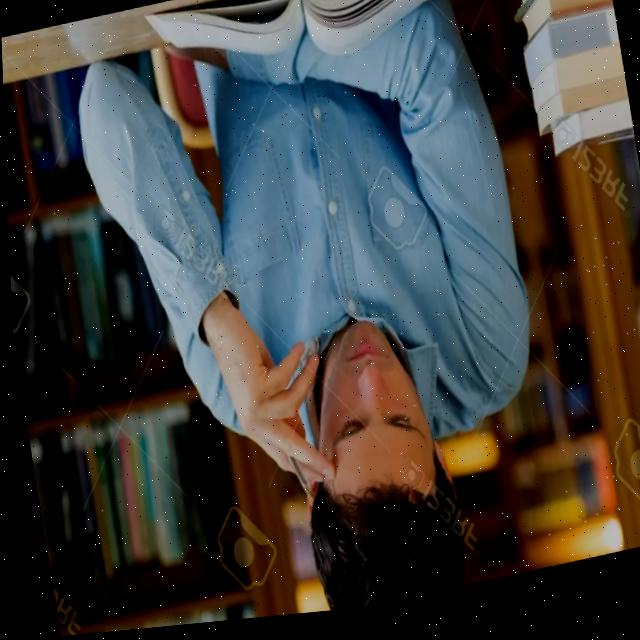studying-person: (53, 0, 572, 636)
